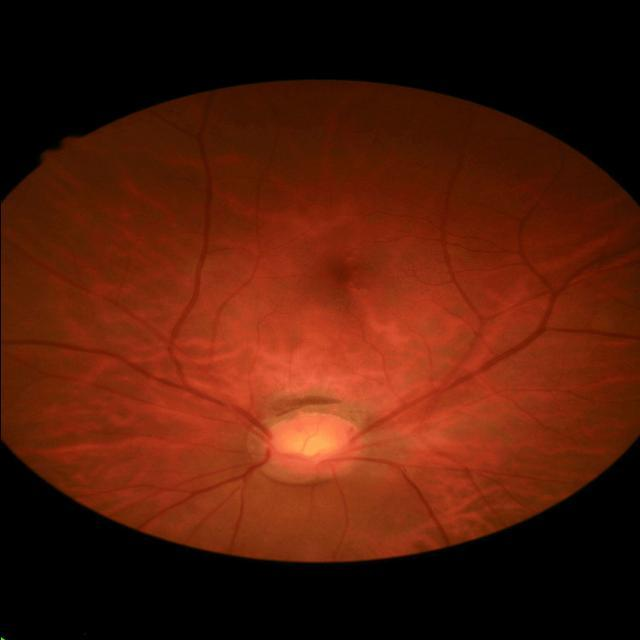cup: (269, 426, 351, 464)
disk: (259, 416, 360, 476)
